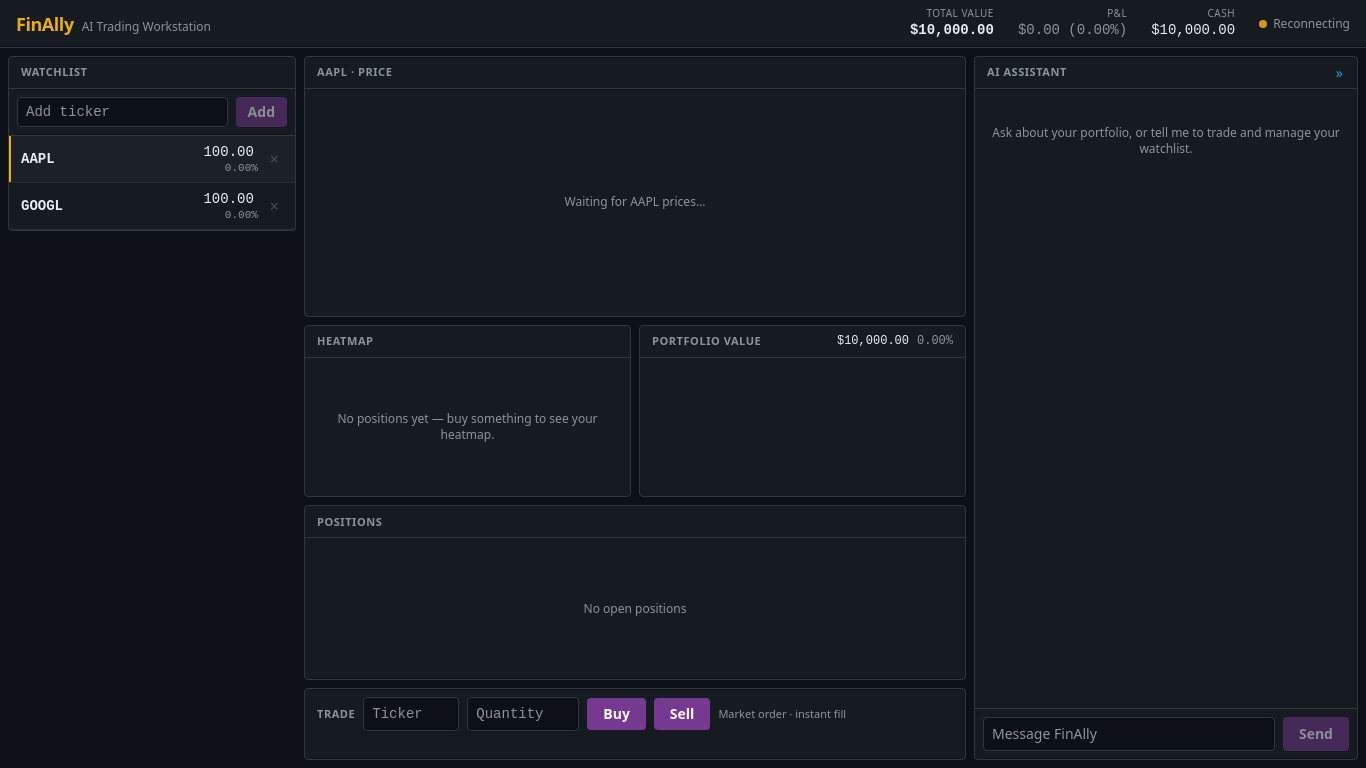
Scenario: Terminal layout › collapses and expands the chat sidebar
The image size is (1366, 768).
Check: the button with test id "watchlist-row-AAPL" is shown, box top-left (9, 136), bottom-right (295, 183)
Step 1. Click the button named "Collapse AI chat" → (1339, 72), box top-left (1330, 62), bottom-right (1349, 82)
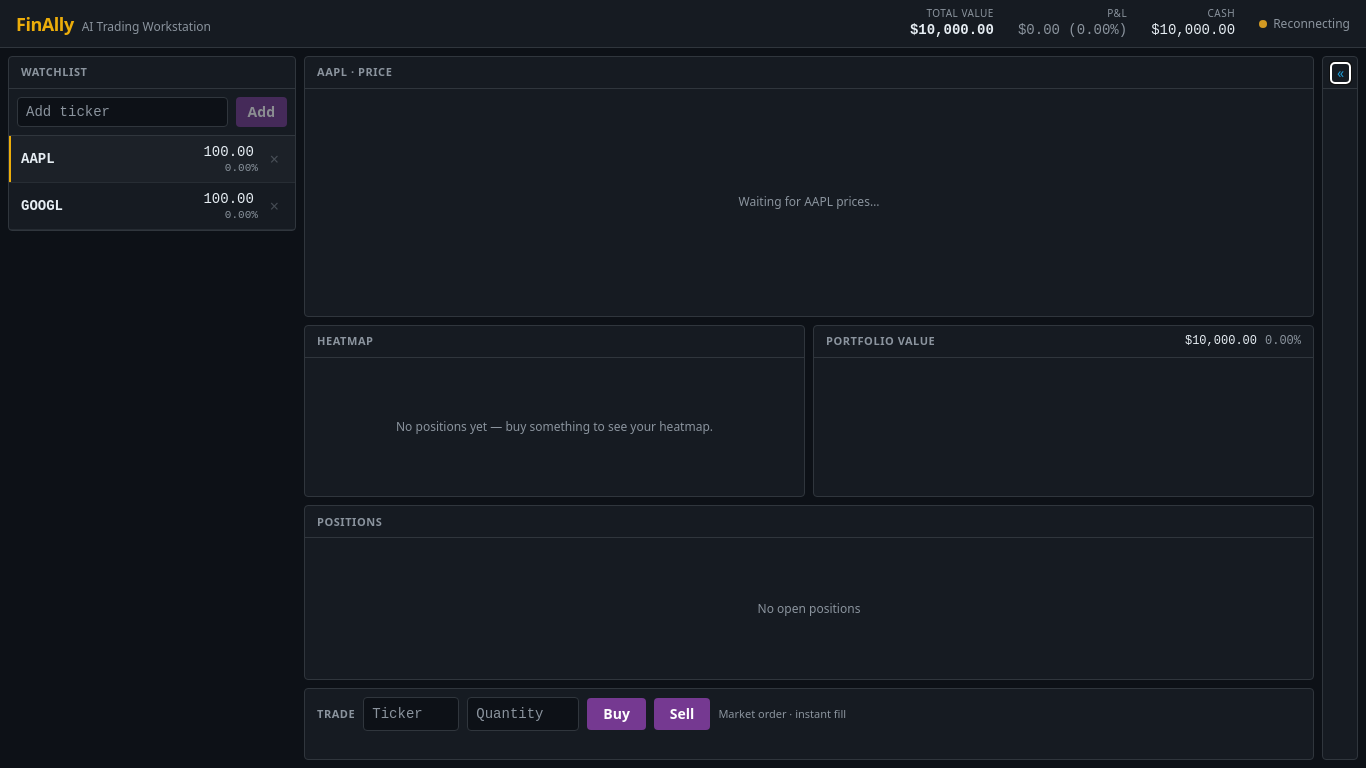
Check: the element with test id "chat-panel" is gone
Step 2. Click the button named "Expand AI chat" → (1341, 72), box top-left (1331, 62), bottom-right (1350, 82)
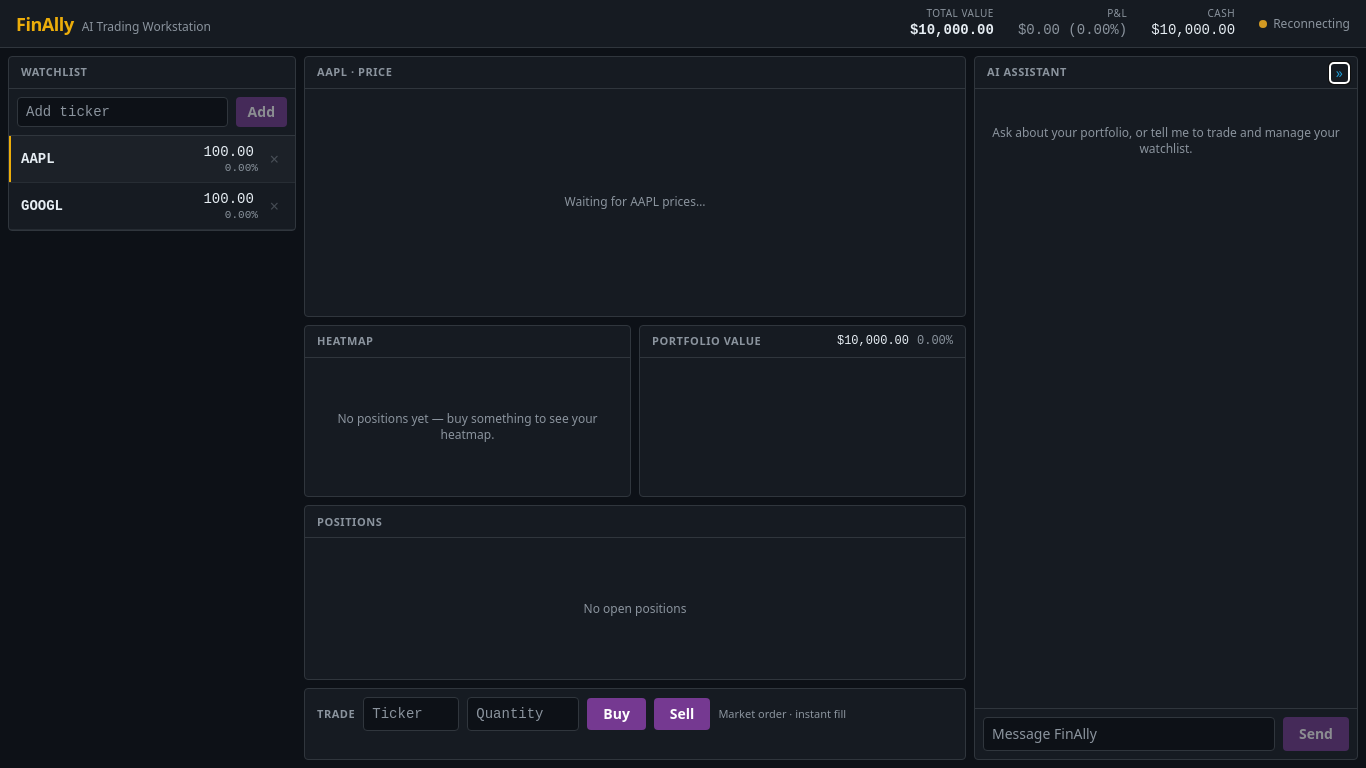
Check: the element with test id "chat-panel" is shown, box top-left (975, 89), bottom-right (1357, 759)
